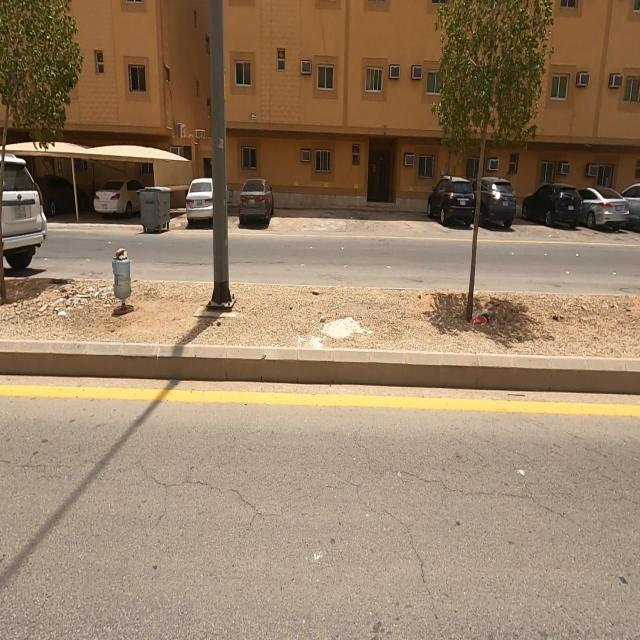debris: (70, 188, 172, 370)
